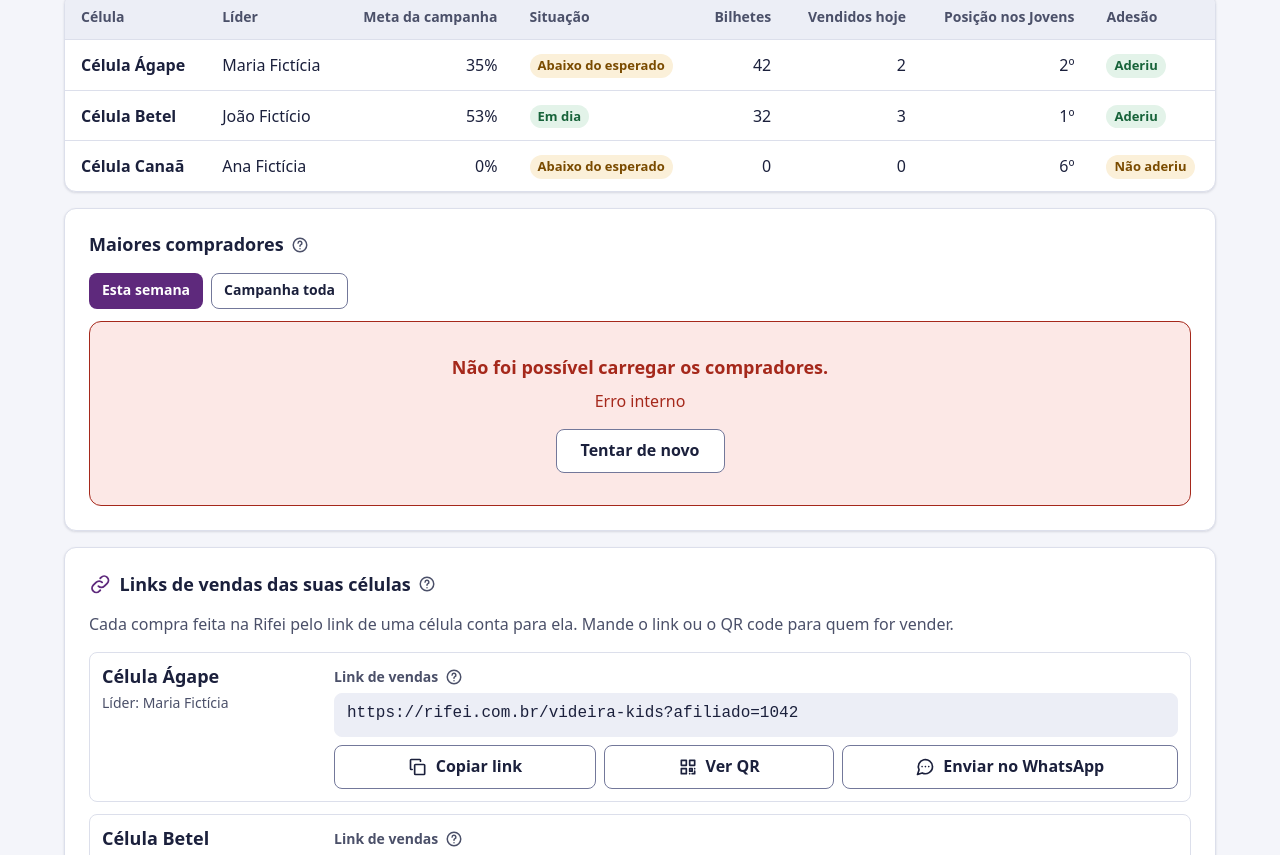
Test: RIFA-083: maiores compradores na /minha do discipulador › falha ao carregar: a explicação e 'Tentar de novo', que pede de novo
The width and height of the screenshot is (1280, 855).
(page scrolled)
Expected: the text "Não foi possível carregar os compradores." is shown, [452,354,828,381]
Click the button "Tentar de novo" at (640, 451), box [556,429,724,473]
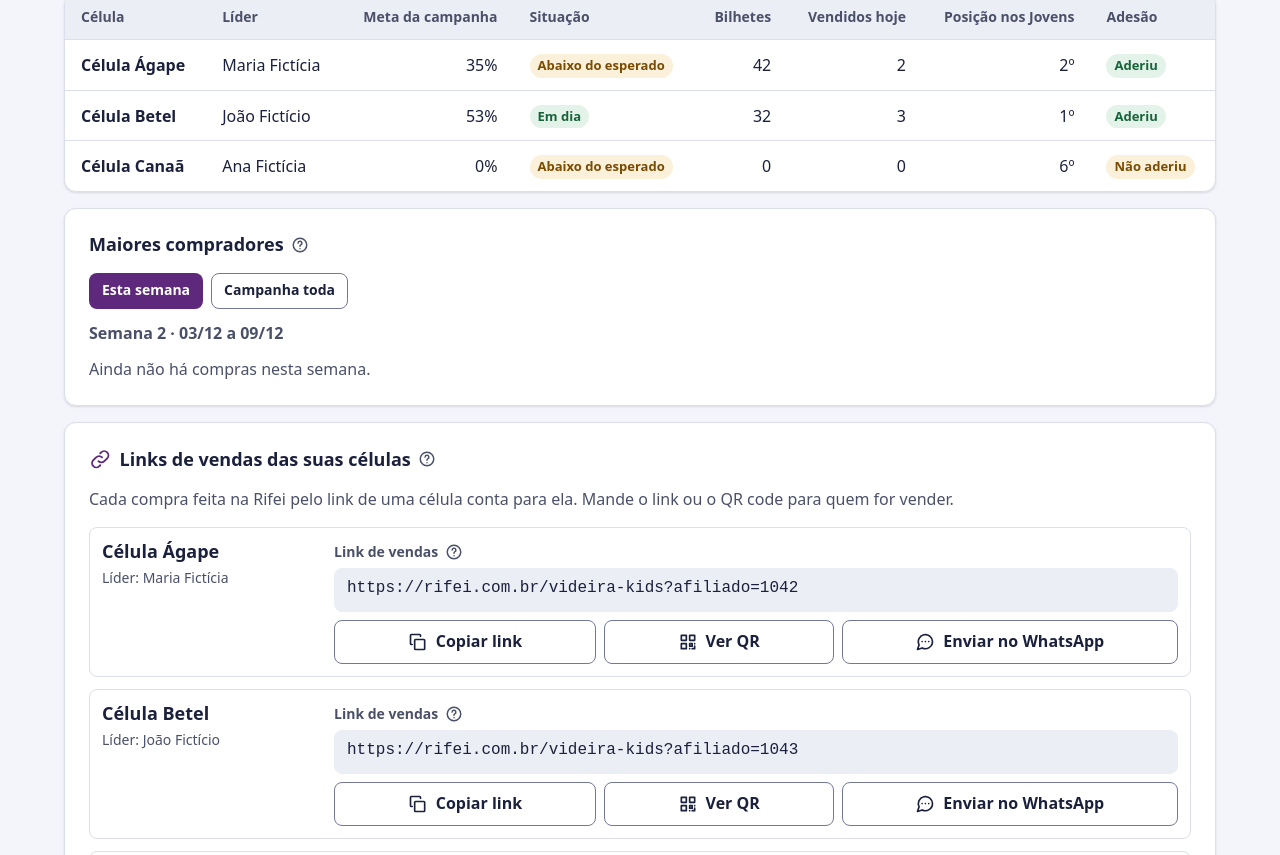
Result: the text "Ainda não há compras nesta semana." is shown at [89,358,370,380]
